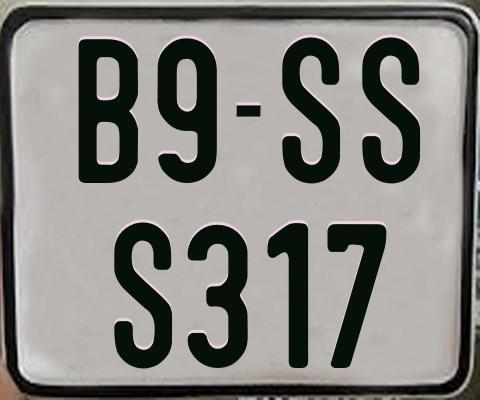1: (267, 221, 314, 369)
3: (186, 223, 249, 371)
7: (325, 223, 385, 368)
9: (156, 38, 219, 188)
B: (75, 39, 141, 185)
S: (281, 37, 342, 187), (114, 219, 175, 369), (361, 37, 420, 186)
